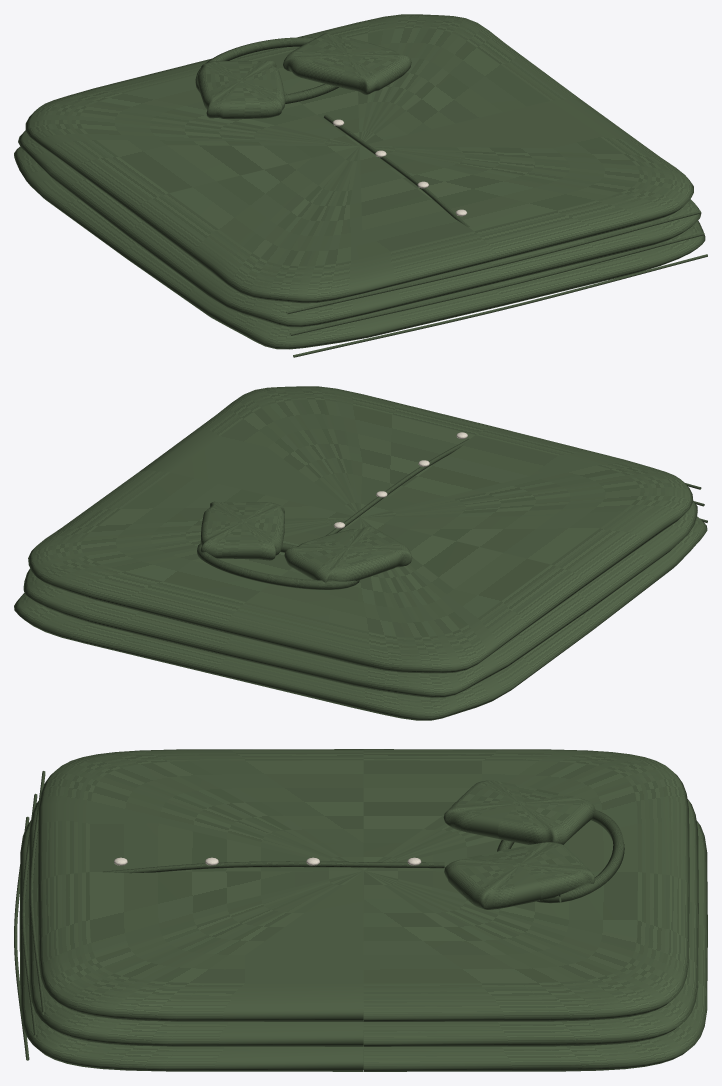
The model's file is folded.glb.
3 views of the same model, one above another, from view 1: azimuth 30°, elevation 25°; view 2: azimuth 150°, elevation 25°; view 3: azimuth 270°, elevation 25° (orthographic). The views are drawn at different scales.
Parts seen in each view (by area): view 1: fabric_olive, jacket fabric seam; view 2: fabric_olive, jacket fabric seam; view 3: fabric_olive, jacket fabric seam.
Part boxes in pixels (box(x1,y1,x2,y2)): fabric_olive: box(14, 14, 705, 349); jacket fabric seam: box(195, 37, 707, 357); fabric_olive: box(14, 386, 707, 720); jacket fabric seam: box(197, 438, 707, 589); fabric_olive: box(19, 749, 707, 1071); jacket fabric seam: box(14, 771, 624, 1060).
Size of the model in its own units: 0.3224 by 0.061 by 0.3428.
Materials: 3 (3 with a texture image).
